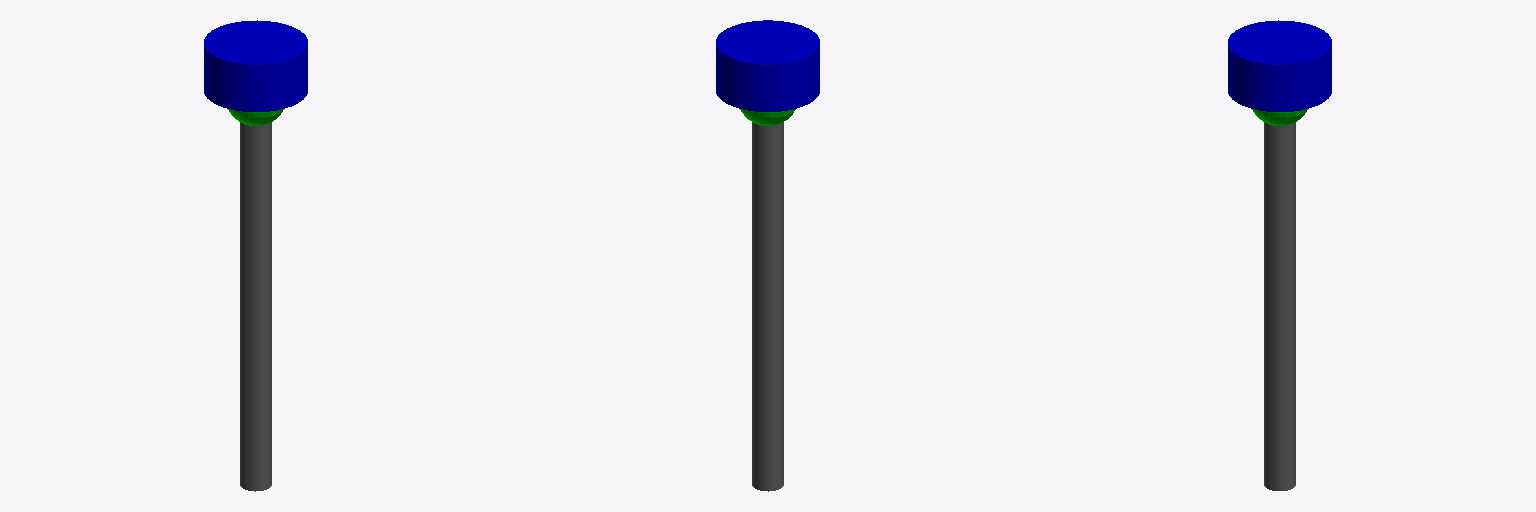
The robot description file, URDF, robot "kuka_iiwa14":
<?xml version="1.0" ?>
<robot name="kuka_iiwa14">
    <!-- MATERIALS -->
    <material name="Black">
        <color rgba="0.0 0.0 0.0 1.0" />
    </material>
    <material name="Blue">
        <color rgba="0.0 0.0 0.8 1.0" />
    </material>
    <material name="Green">
        <color rgba="0.0 0.8 0.0 1.0" />
    </material>
    <material name="Grey">
        <color rgba="0.4 0.4 0.4 1.0" />
    </material>
    <material name="Orange">
        <color rgba="1.0 0.4235294117647059 0.0392156862745098 1.0" />
    </material>
    <material name="Brown">
        <color rgba="0.8705882352941177 0.8117647058823529 0.7647058823529411 1.0" />
    </material>
    <material name="Red">
        <color rgba="0.8 0.0 0.0 1.0" />
    </material>
    <material name="White">
        <color rgba="1.0 1.0 1.0 1.0" />
    </material>
    <!-- ROBOT -->
    <link name="world" />
    <!--joint between {parent} and link_0-->
    <joint name="world_iiwa_joint" type="fixed">
        <origin rpy="0 0 0" xyz="0 0 0" />
        <parent link="world" />
        <child link="iiwa_link_0" />
    </joint>
    <link name="iiwa_link_0">
        <inertial>
            <origin rpy="0 0 0" xyz="-0.1 0 0.07" />
            <mass value="5" />
            <inertia ixx="0.05" ixy="0" ixz="0" iyy="0.06" iyz="0" izz="0.03" />
        </inertial>
        <visual>
            <origin rpy="0 0 0" xyz="0 0 0" />
            <geometry>
                <mesh filename="package://air_hockey/mesh/visual/link_0.stl" />
            </geometry>
            <material name="Grey" />
        </visual>
        <collision>
            <origin rpy="0 0 0" xyz="0 0 0" />
            <geometry>
                <mesh filename="package://air_hockey/mesh/collision/link_0.stl" />
            </geometry>
            <material name="Grey" />
        </collision>
        <self_collision_checking>
            <origin rpy="0 0 0" xyz="0 0 0" />
            <geometry>
                <capsule length="0.25" radius="0.15" />
            </geometry>
        </self_collision_checking>
    </link>
    <!-- joint between link_0 and link_1 -->
    <joint name="iiwa_joint_1" type="revolute">
        <parent link="iiwa_link_0" />
        <child link="iiwa_link_1" />
        <origin rpy="0 0 0" xyz="0 0 0.1575" />
        <axis xyz="0 0 1" />
        <limit effort="300" lower="-2.9670597283903604" upper="2.9670597283903604" velocity="10" />
        <safety_controller k_position="100" k_velocity="2" soft_lower_limit="-2.9321531433504737" soft_upper_limit="2.9321531433504737" />
        <dynamics damping="0.5" />
    </joint>
    <link name="iiwa_link_1">
        <inertial>
            <origin rpy="0 0 0" xyz="0 -0.03 0.12" />
            <mass value="4" />
            <inertia ixx="0.1" ixy="0" ixz="0" iyy="0.09" iyz="0" izz="0.02" />
        </inertial>
        <visual>
            <origin rpy="0 0 0" xyz="0 0 0" />
            <geometry>
                <mesh filename="package://air_hockey/mesh/visual/link_1.stl" />
            </geometry>
            <material name="Orange" />
        </visual>
        <collision>
            <origin rpy="0 0 0" xyz="0 0 0" />
            <geometry>
                <mesh filename="package://air_hockey/mesh/collision/link_1.stl" />
            </geometry>
            <material name="Orange" />
        </collision>
    </link>
    <!-- joint between link_1 and link_2 -->
    <joint name="iiwa_joint_2" type="revolute">
        <parent link="iiwa_link_1" />
        <child link="iiwa_link_2" />
        <origin rpy="1.5707963267948966   0 3.141592653589793" xyz="0 0 0.2025" />
        <axis xyz="0 0 1" />
        <limit effort="300" lower="-2.0943951023931953" upper="2.0943951023931953" velocity="10" />
        <safety_controller k_position="100" k_velocity="2" soft_lower_limit="-2.0594885173533086" soft_upper_limit="2.0594885173533086" />
        <dynamics damping="0.5" />
    </joint>
    <link name="iiwa_link_2">
        <inertial>
            <origin rpy="0 0 0" xyz="0.0003 0.059 0.042" />
            <mass value="4" />
            <inertia ixx="0.05" ixy="0" ixz="0" iyy="0.018" iyz="0" izz="0.044" />
        </inertial>
        <visual>
            <origin rpy="0 0 0" xyz="0 0 0" />
            <geometry>
                <mesh filename="package://air_hockey/mesh/visual/link_2.stl" />
            </geometry>
            <material name="Orange" />
        </visual>
        <collision>
            <origin rpy="0 0 0" xyz="0 0 0" />
            <geometry>
                <mesh filename="package://air_hockey/mesh/collision/link_2.stl" />
            </geometry>
            <material name="Orange" />
        </collision>
    </link>
    <!-- joint between link_2 and link_3 -->
    <joint name="iiwa_joint_3" type="revolute">
        <parent link="iiwa_link_2" />
        <child link="iiwa_link_3" />
        <origin rpy="1.5707963267948966 0 3.141592653589793" xyz="0 0.2045 0" />
        <axis xyz="0 0 1" />
        <limit effort="300" lower="-2.9670597283903604" upper="2.9670597283903604" velocity="10" />
        <safety_controller k_position="100" k_velocity="2" soft_lower_limit="-2.9321531433504737" soft_upper_limit="2.9321531433504737" />
        <dynamics damping="0.5" />
    </joint>
    <link name="iiwa_link_3">
        <inertial>
            <origin rpy="0 0 0" xyz="0 0.03 0.13" />
            <mass value="3" />
            <inertia ixx="0.08" ixy="0" ixz="0" iyy="0.075" iyz="0" izz="0.01" />
        </inertial>
        <visual>
            <origin rpy="0 0 0" xyz="0 0 0" />
            <geometry>
                <mesh filename="package://air_hockey/mesh/visual/link_3.stl" />
            </geometry>
            <material name="Orange" />
        </visual>
        <collision>
            <origin rpy="0 0 0" xyz="0 0 0" />
            <geometry>
                <mesh filename="package://air_hockey/mesh/collision/link_3.stl" />
            </geometry>
            <material name="Orange" />
        </collision>
    </link>
    <!-- joint between link_3 and link_4 -->
    <joint name="iiwa_joint_4" type="revolute">
        <parent link="iiwa_link_3" />
        <child link="iiwa_link_4" />
        <origin rpy="1.5707963267948966 0 0" xyz="0 0 0.2155" />
        <axis xyz="0 0 1" />
        <limit effort="300" lower="-2.0943951023931953" upper="2.0943951023931953" velocity="10" />
        <safety_controller k_position="100" k_velocity="2" soft_lower_limit="-2.0594885173533086" soft_upper_limit="2.0594885173533086" />
        <dynamics damping="0.5" />
    </joint>
    <link name="iiwa_link_4">
        <inertial>
            <origin rpy="0 0 0" xyz="0 0.067 0.034" />
            <mass value="2.7" />
            <inertia ixx="0.03" ixy="0" ixz="0" iyy="0.01" iyz="0" izz="0.029" />
        </inertial>
        <visual>
            <origin rpy="0 0 0" xyz="0 0 0" />
            <geometry>
                <mesh filename="package://air_hockey/mesh/visual/link_4.stl" />
            </geometry>
            <material name="Orange" />
        </visual>
        <collision>
            <origin rpy="0 0 0" xyz="0 0 0" />
            <geometry>
                <mesh filename="package://air_hockey/mesh/collision/link_4.stl" />
            </geometry>
            <material name="Orange" />
        </collision>
    </link>
    <!-- joint between link_4 and link_5 -->
    <joint name="iiwa_joint_5" type="revolute">
        <parent link="iiwa_link_4" />
        <child link="iiwa_link_5" />
        <origin rpy="-1.5707963267948966 3.141592653589793 0" xyz="0 0.1845 0" />
        <axis xyz="0 0 1" />
        <limit effort="300" lower="-2.9670597283903604" upper="2.9670597283903604" velocity="10" />
        <safety_controller k_position="100" k_velocity="2" soft_lower_limit="-2.9321531433504737" soft_upper_limit="2.9321531433504737" />
        <dynamics damping="0.5" />
    </joint>
    <link name="iiwa_link_5">
        <inertial>
            <origin rpy="0 0 0" xyz="0.0001 0.021 0.076" />
            <mass value="1.7" />
            <inertia ixx="0.02" ixy="0" ixz="0" iyy="0.018" iyz="0" izz="0.005" />
        </inertial>
        <visual>
            <origin rpy="0 0 0" xyz="0 0 0" />
            <geometry>
                <mesh filename="package://air_hockey/mesh/visual/link_5.stl" />
            </geometry>
            <material name="Orange" />
        </visual>
        <collision>
            <origin rpy="0 0 0" xyz="0 0 0" />
            <geometry>
                <mesh filename="package://air_hockey/mesh/collision/link_5.stl" />
            </geometry>
            <material name="Orange" />
        </collision>
    </link>
    <!-- joint between link_5 and link_6 -->
    <joint name="iiwa_joint_6" type="revolute">
        <parent link="iiwa_link_5" />
        <child link="iiwa_link_6" />
        <origin rpy="1.5707963267948966 0 0" xyz="0 0 0.2155" />
        <axis xyz="0 0 1" />
        <limit effort="300" lower="-2.0943951023931953" upper="2.0943951023931953" velocity="10" />
        <safety_controller k_position="100" k_velocity="2" soft_lower_limit="-2.0594885173533086" soft_upper_limit="2.0594885173533086" />
        <dynamics damping="0.5" />
    </joint>
    <link name="iiwa_link_6">
        <inertial>
            <origin rpy="0 0 0" xyz="0 0.0006 0.0004" />
            <mass value="1.8" />
            <inertia ixx="0.005" ixy="0" ixz="0" iyy="0.0036" iyz="0" izz="0.0047" />
        </inertial>
        <visual>
            <origin rpy="0 0 0" xyz="0 0 0" />
            <geometry>
                <mesh filename="package://air_hockey/mesh/visual/link_6.stl" />
            </geometry>
            <material name="Orange" />
        </visual>
        <collision>
            <origin rpy="0 0 0" xyz="0 0 0" />
            <geometry>
                <mesh filename="package://air_hockey/mesh/collision/link_6.stl" />
            </geometry>
            <material name="Orange" />
        </collision>
    </link>
    <!-- joint between link_6 and link_7 -->
    <joint name="iiwa_joint_7" type="revolute">
        <parent link="iiwa_link_6" />
        <child link="iiwa_link_7" />
        <origin rpy="-1.5707963267948966 3.141592653589793 0" xyz="0 0.081 0" />
        <axis xyz="0 0 1" />
        <limit effort="300" lower="-3.0543261909900763" upper="3.0543261909900763" velocity="10" />
        <safety_controller k_position="100" k_velocity="2" soft_lower_limit="-3.01941960595019" soft_upper_limit="3.01941960595019" />
        <dynamics damping="0.5" />
    </joint>
    <link name="iiwa_link_7">
        <inertial>
            <origin rpy="0 0 0" xyz="0 0 0.02" />
            <mass value="0.3" />
            <inertia ixx="0.001" ixy="0" ixz="0" iyy="0.001" iyz="0" izz="0.001" />
        </inertial>
        <visual>
            <origin rpy="0 0 0" xyz="0 0 0" />
            <geometry>
                <mesh filename="package://air_hockey/mesh/visual/link_7.stl" />
            </geometry>
            <material name="Grey" />
        </visual>
        <collision>
            <origin rpy="0 0 0" xyz="0 0 0" />
            <geometry>
                <mesh filename="package://air_hockey/mesh/collision/link_7.stl" />
            </geometry>
            <material name="Grey" />
        </collision>
    </link>
    <!-- POLE -->
    <joint name="fixed_pole_joint" type="fixed">
        <parent link="iiwa_link_7" />
        <child link="pole" />
        <origin rpy="0 0 0" xyz="0 0 0.23" />
    </joint>
    <link name="pole">
        <inertial>
            <origin rpy="0 0 0" xyz="0 0 0" />
            <mass value="0.3" />
            <inertia ixx="0.007" ixy="0" ixz="0" iyy="0.007" iyz="0" izz="0.007" />
        </inertial>
        <visual>
            <origin rpy="0 0 0" xyz="0 0 0" />
            <geometry>
                <cylinder length="0.4" radius="0.015" />
            </geometry>
            <material name="Grey" />
        </visual>
        <collision>
            <origin rpy="0 0 0" xyz="0 0 0" />
            <geometry>
                <cylinder length="0.4" radius="0.015" />
            </geometry>
        </collision>
    </link>
    <!-- Ball x -->
    <!-- Revolute joint on X-axis -->
    <joint name="ball_joint_x" type="revolute">
        <parent link="pole" />
        <child link="ball_link_1" />
        <origin rpy="0 0 0" xyz="0 0 0.21" />
        <axis xyz="1 0 0" />
        <!-- Rotation around X-axis -->
        <limit effort="300" lower="-1.5708" upper="1.5708" velocity="10" />
    </joint>
    <link name="ball_link_1">
        <inertial>
            <mass value="0.001" />
            <!-- Very small mass to minimize impact -->
            <inertia ixx="0.0001" ixy="0.0" ixz="0.0" iyy="0.0001" iyz="0.0" izz="0.0001" />
            <origin rpy="0 0 0" xyz="0 0 0" />
        </inertial>
        <visual>
            <origin rpy="0 0 0" xyz="0 0 0" />
            <geometry>
                <sphere radius="0.03" />
            </geometry>
            <material name="Green" />
        </visual>
        <collision>
            <origin rpy="0 0 0" xyz="0 0 0" />
            <geometry>
                <sphere radius="0.03" />
            </geometry>
        </collision>
    </link>
    <!-- Ball y-->
    <!-- Revolute joint on Y-axis -->
    <joint name="ball_joint_y" type="revolute">
        <parent link="ball_link_1" />
        <child link="ball_link_2" />
        <origin rpy="0 0 0" xyz="0 0 0" />
        <axis xyz="0 1 0" />
        <!-- Rotation around Y-axis -->
        <limit effort="300" lower="-1.5708" upper="1.5708" velocity="10" />
    </joint>
    <link name="ball_link_2">
        <inertial>
            <mass value="0.001" />
            <inertia ixx="0.0001" ixy="0.0" ixz="0.0" iyy="0.0001" iyz="0.0" izz="0.0001" />
        </inertial>
    </link>
    <!-- MALLET -->
    <joint name="fixed_mallet_joint" type="fixed">
        <parent link="ball_link_2" />
        <child link="mallet" />
        <origin rpy="0 0 0.03" xyz="0 0 0" />
    </joint>
    <!-- Link for the mallet -->
    <link name="mallet">
        <inertial>
            <origin rpy="0 0 0" xyz="0 0 0.03" />
            <mass value="0.2" />
            <inertia ixx="0.005" ixy="0" ixz="0" iyy="0.005" iyz="0" izz="0.005" />
        </inertial>
        <visual>
            <origin rpy="0 0 0" xyz="0 0 0.03" />
            <geometry>
                <cylinder length="0.05" radius="0.05" />
            </geometry>
            <material name="Blue" />
        </visual>
        <collision>
            <origin rpy="0 0 0" xyz="0 0 0.03" />
            <geometry>
                <cylinder length="0.05" radius="0.05" />
            </geometry>
        </collision>
    </link>
    <gazebo>
        <plugin name="gazebo_ros_control" filename="libgazebo_ros_control.so">
            <robotNamespace>/</robotNamespace>
        </plugin>
    </gazebo>
    <transmission name="trans_iiwa_joint_1">
        <type>transmission_interface/SimpleTransmission</type>
        <joint name="iiwa_joint_1">
            <hardwareInterface>hardware_interface/VelocityJointInterface</hardwareInterface>
        </joint>
        <actuator name="iiwa_joint_1_motor">
            <hardwareInterface>hardware_interface/VelocityJointInterface</hardwareInterface>
            <mechanicalReduction>1</mechanicalReduction>
        </actuator>
    </transmission>
    <transmission name="trans_iiwa_joint_2">
        <type>transmission_interface/SimpleTransmission</type>
        <joint name="iiwa_joint_2">
            <hardwareInterface>hardware_interface/VelocityJointInterface</hardwareInterface>
        </joint>
        <actuator name="iiwa_joint_2_motor">
            <hardwareInterface>hardware_interface/VelocityJointInterface</hardwareInterface>
            <mechanicalReduction>1</mechanicalReduction>
        </actuator>
    </transmission>
    <transmission name="trans_iiwa_joint_3">
        <type>transmission_interface/SimpleTransmission</type>
        <joint name="iiwa_joint_3">
            <hardwareInterface>hardware_interface/VelocityJointInterface</hardwareInterface>
        </joint>
        <actuator name="iiwa_joint_3_motor">
            <hardwareInterface>hardware_interface/VelocityJointInterface</hardwareInterface>
            <mechanicalReduction>1</mechanicalReduction>
        </actuator>
    </transmission>
    <transmission name="trans_iiwa_joint_4">
        <type>transmission_interface/SimpleTransmission</type>
        <joint name="iiwa_joint_4">
            <hardwareInterface>hardware_interface/VelocityJointInterface</hardwareInterface>
        </joint>
        <actuator name="iiwa_joint_4_motor">
            <hardwareInterface>hardware_interface/VelocityJointInterface</hardwareInterface>
            <mechanicalReduction>1</mechanicalReduction>
        </actuator>
    </transmission>
    <transmission name="trans_iiwa_joint_5">
        <type>transmission_interface/SimpleTransmission</type>
        <joint name="iiwa_joint_5">
            <hardwareInterface>hardware_interface/VelocityJointInterface</hardwareInterface>
        </joint>
        <actuator name="iiwa_joint_5_motor">
            <hardwareInterface>hardware_interface/VelocityJointInterface</hardwareInterface>
            <mechanicalReduction>1</mechanicalReduction>
        </actuator>
    </transmission>
    <transmission name="trans_iiwa_joint_6">
        <type>transmission_interface/SimpleTransmission</type>
        <joint name="iiwa_joint_6">
            <hardwareInterface>hardware_interface/VelocityJointInterface</hardwareInterface>
        </joint>
        <actuator name="iiwa_joint_6_motor">
            <hardwareInterface>hardware_interface/VelocityJointInterface</hardwareInterface>
            <mechanicalReduction>1</mechanicalReduction>
        </actuator>
    </transmission>
    <transmission name="trans_iiwa_joint_7">
        <type>transmission_interface/SimpleTransmission</type>
        <joint name="iiwa_joint_7">
            <hardwareInterface>hardware_interface/VelocityJointInterface</hardwareInterface>
        </joint>
        <actuator name="iiwa_joint_7_motor">
            <hardwareInterface>hardware_interface/VelocityJointInterface</hardwareInterface>
            <mechanicalReduction>1</mechanicalReduction>
        </actuator>
    </transmission>
    <transmission name="trans_ball_joint_x">
        <type>transmission_interface/SimpleTransmission</type>
        <joint name="ball_joint_x">
            <hardwareInterface>hardware_interface/VelocityJointInterface</hardwareInterface>
        </joint>
        <actuator name="ball_joint_x_motor">
            <hardwareInterface>hardware_interface/VelocityJointInterface</hardwareInterface>
            <mechanicalReduction>1</mechanicalReduction>
        </actuator>
    </transmission>
    <transmission name="trans_ball_joint_y">
        <type>transmission_interface/SimpleTransmission</type>
        <joint name="ball_joint_y">
            <hardwareInterface>hardware_interface/VelocityJointInterface</hardwareInterface>
        </joint>
        <actuator name="ball_joint_y_motor">
            <hardwareInterface>hardware_interface/VelocityJointInterface</hardwareInterface>
            <mechanicalReduction>1</mechanicalReduction>
        </actuator>
    </transmission>
</robot>

--- Facts derived from the render (not from the file) ---
Views: 3 orthographic renders of the robot side by side, from view 1: azimuth 30°, elevation 25°; view 2: azimuth 150°, elevation 25°; view 3: azimuth 270°, elevation 25°.
Robot: kuka_iiwa14 — 13 links, 12 joints (9 revolute, 3 fixed); root link world; default pose: all joints at 0.
Visible links, largest first — view 1: pole, mallet, ball_link_1; view 2: pole, mallet, ball_link_1; view 3: pole, mallet, ball_link_1.
Boxes of the visible links, <box> form: pole: <box>240,122,271,491</box>; mallet: <box>204,20,307,111</box>; ball_link_1: <box>228,109,283,125</box>; pole: <box>752,122,783,491</box>; mallet: <box>716,20,819,111</box>; ball_link_1: <box>740,109,795,125</box>; pole: <box>1264,122,1295,490</box>; mallet: <box>1228,20,1331,111</box>; ball_link_1: <box>1252,109,1307,125</box>.
Bounding box of the posed robot: 0.1 × 0.1 × 0.465 m (x, y, z).
Meshes: 8 distinct files referenced, 0 mesh visuals loaded (none loaded); not drawn: 8 (reference not matched to a file when rendering).